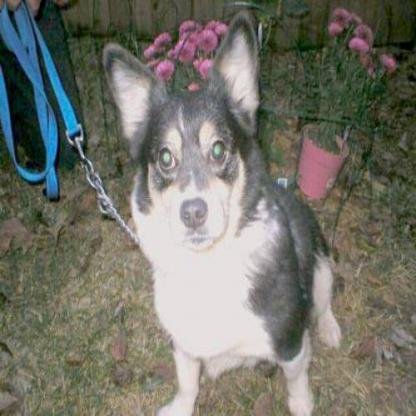dog: (97, 31, 351, 398)
